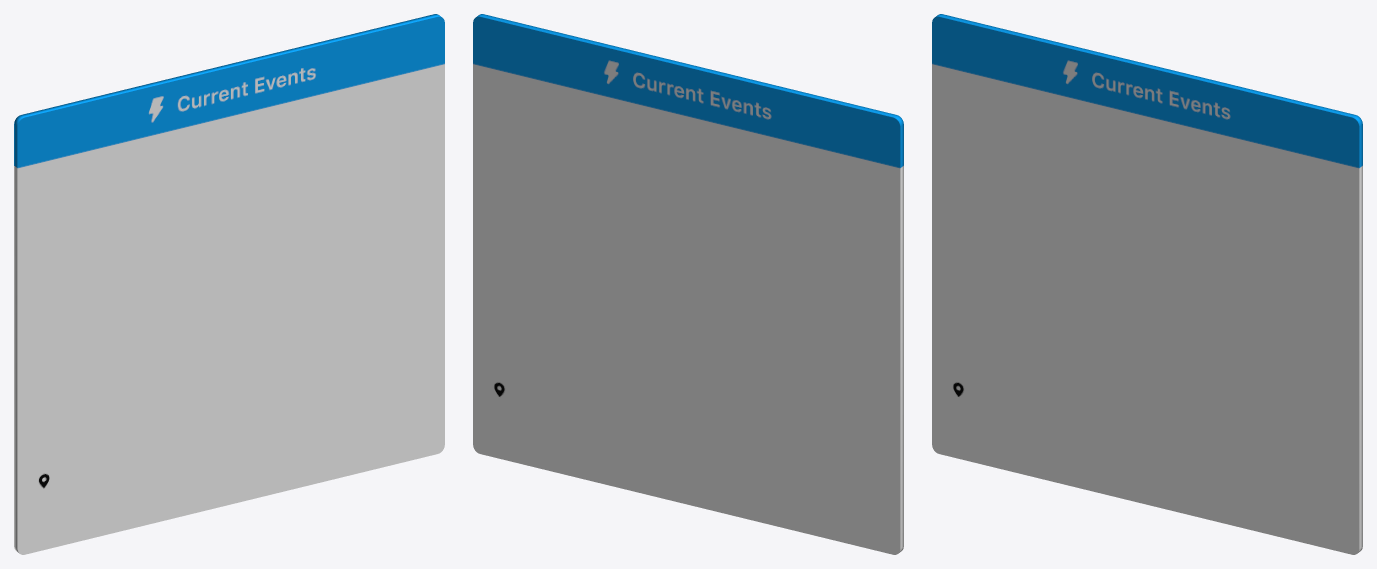
The model's file is events-UI.glb.
The picture shows the model from 3 angles, left to right: view 1: azimuth 30°, elevation 25°; view 2: azimuth 150°, elevation 25°; view 3: azimuth 330°, elevation 25°; orthographic projection.
Parts seen in each view (by area): view 1: events_background; view 2: events_background; view 3: events_background.
Part boxes in pixels (x1,y1,x2,y2): events_background: (14, 14, 444, 554); events_background: (473, 14, 903, 554); events_background: (932, 14, 1362, 554).
Size of what is drawn, in the model's own units: 4.25 by 4.16 by 0.0617.
Materials: 1 (1 with a texture image).
